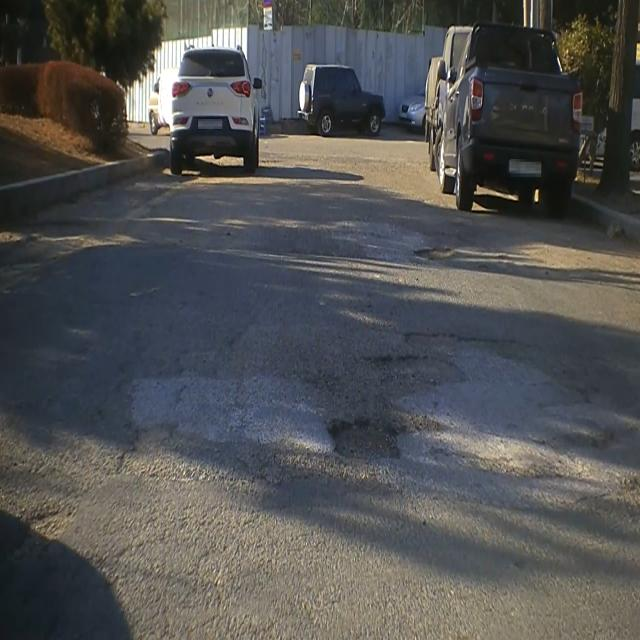Pothole: (320, 404, 412, 470), (404, 327, 520, 352), (363, 345, 442, 377)
